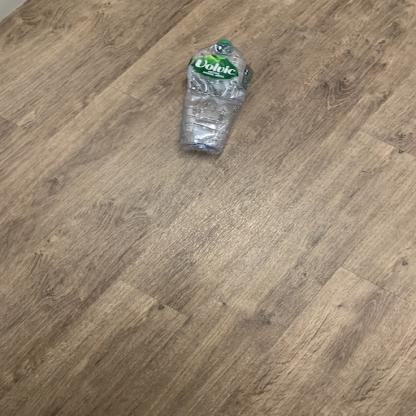trash: (177, 40, 250, 158)
